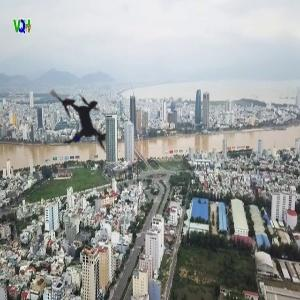drone: (22, 61, 143, 182)
